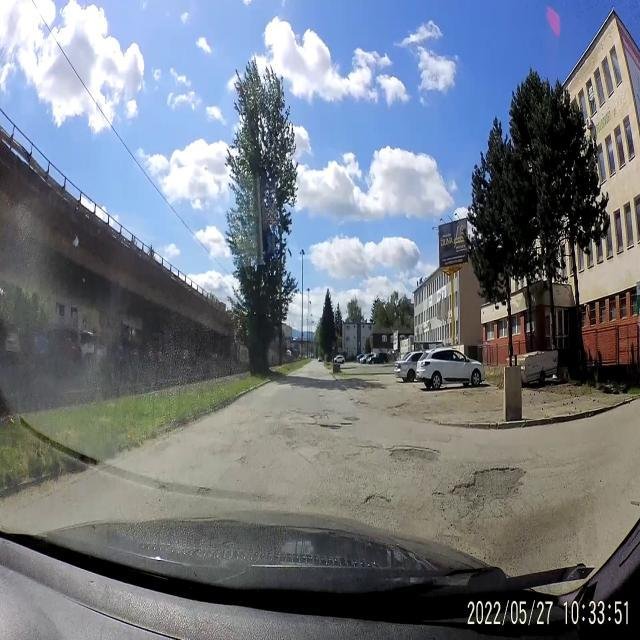Manhole: (344, 414, 361, 422)
Pothole: (447, 461, 532, 511), (387, 442, 443, 472), (360, 488, 392, 511), (158, 478, 174, 496), (318, 422, 342, 432), (196, 483, 212, 498), (355, 399, 369, 409), (322, 408, 335, 416), (432, 492, 444, 499), (338, 422, 354, 427), (262, 412, 272, 420)
